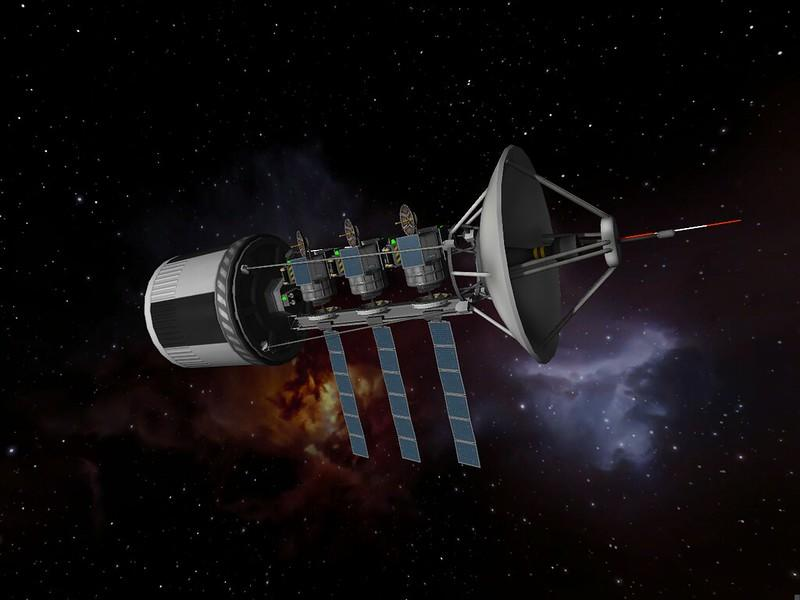antenna: (469, 142, 747, 366), (394, 202, 419, 236), (338, 216, 362, 249), (289, 229, 312, 260)
body: (141, 229, 307, 370), (397, 224, 449, 289), (335, 239, 390, 296), (286, 247, 337, 305)
solar: (426, 320, 483, 469), (369, 325, 424, 465), (322, 330, 374, 461), (395, 232, 429, 272), (337, 246, 367, 279), (288, 256, 316, 287)
thruster: (424, 290, 438, 302), (368, 299, 380, 310), (319, 305, 329, 316)
